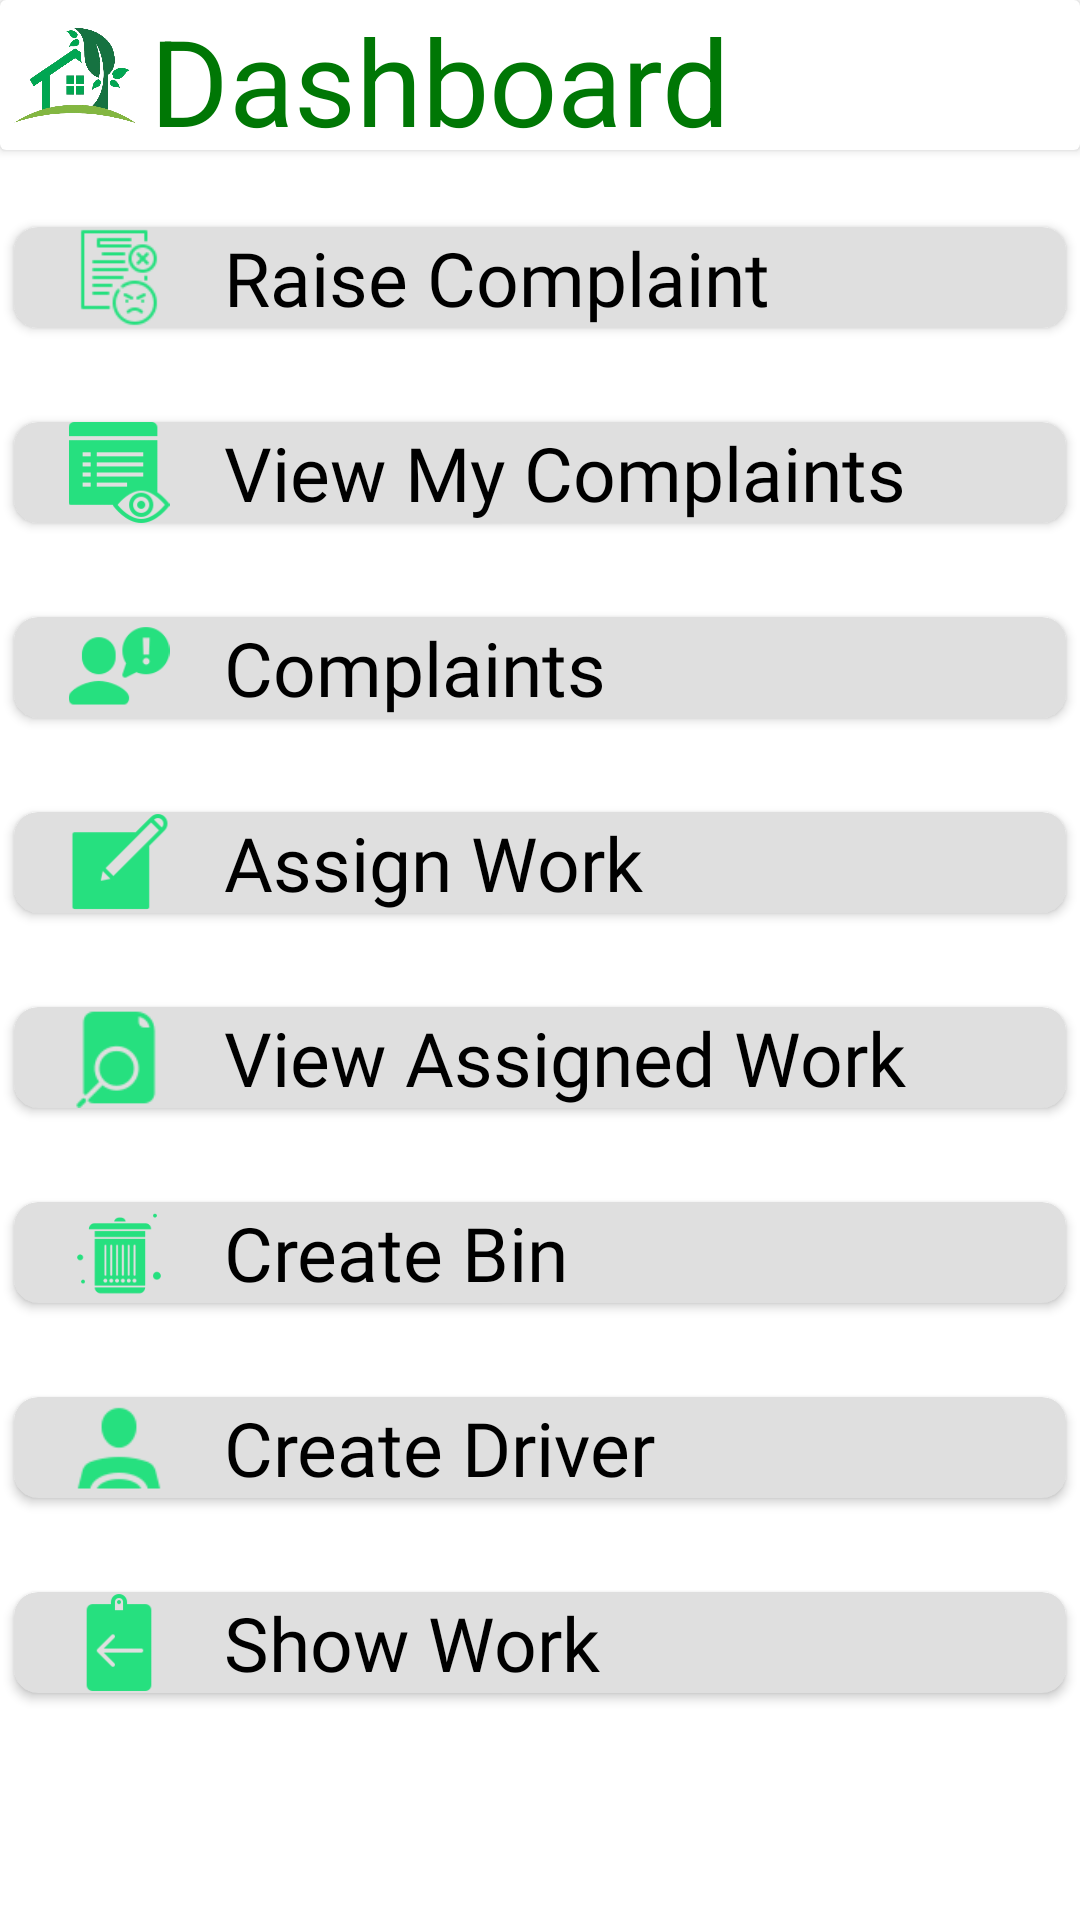

Named icons in this screenshot (1080px×1920px) and their bounding boxes, {"left": x1, "top": y1, "right": x2, "bottom": y2}:
complaint form: {"left": 14, "top": 227, "right": 224, "bottom": 328}
